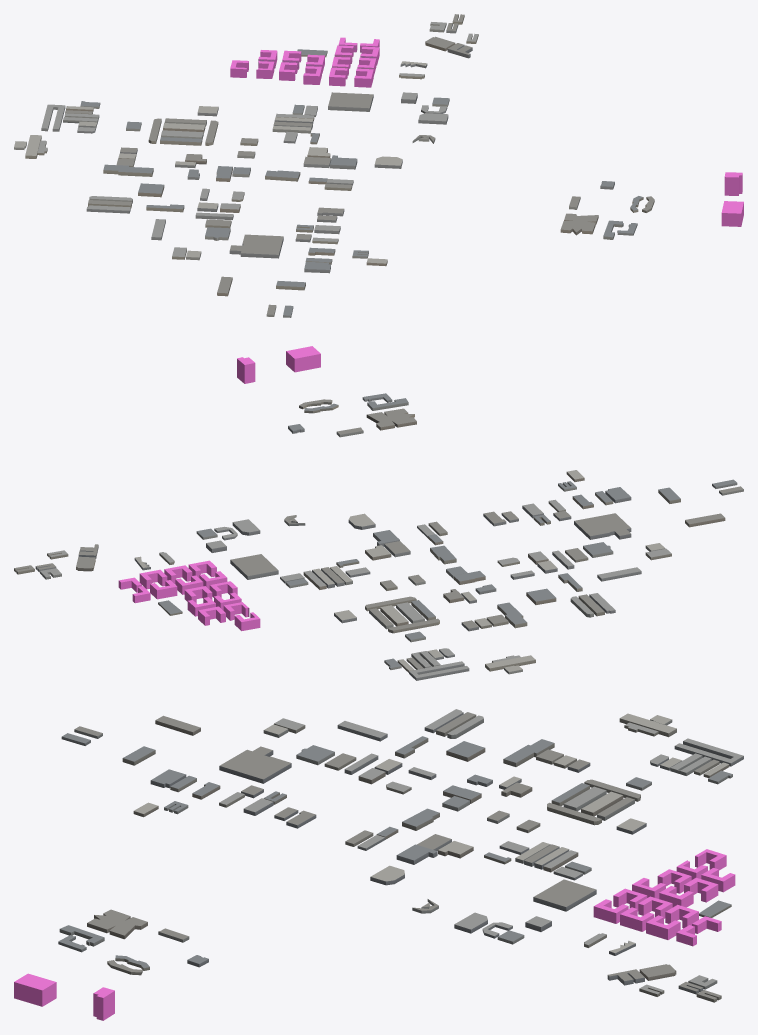
Rendered from bld_11_5.fbx.
3 renders of one model, top to bottom at view 1: azimuth 30°, elevation 25°; view 2: azimuth 150°, elevation 25°; view 3: azimuth 270°, elevation 25°, orthographic. The views are drawn at different scales.
Parts seen in each view (by area): view 1: bld_11_5_LOD0, bld_11_5_COL; view 2: bld_11_5_LOD0, bld_11_5_COL; view 3: bld_11_5_LOD0, bld_11_5_COL.
Boxes of the visible parts, <box> form: bld_11_5_LOD0: <box>14,14,654,317</box>; bld_11_5_COL: <box>230,37,743,226</box>; bld_11_5_LOD0: <box>14,393,743,680</box>; bld_11_5_COL: <box>118,346,320,631</box>; bld_11_5_LOD0: <box>58,709,743,1002</box>; bld_11_5_COL: <box>14,849,735,1020</box>.
Size of what is drawn, in the model's own units: 2040 by 70.68 by 2040.
